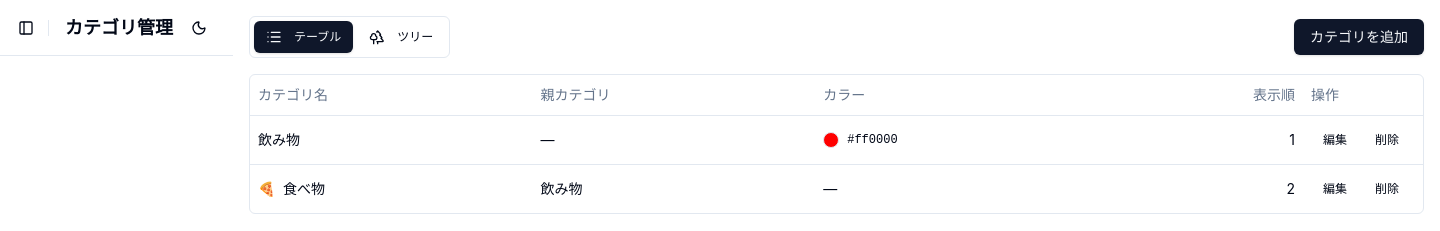
it: CategoriesPage › ツリー表示に切り替える
The image size is (1440, 231).
What coordinates should you click on to do the following:
click the button with aria-label "ツリー表示"
I would click on:
 (401, 37)
Its box is [357,21,445,53].
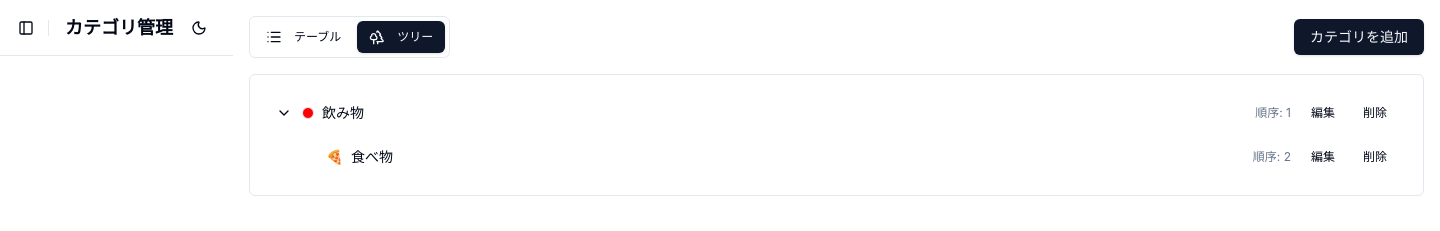
expect the text "順序: 1" is shown: met, box [1255,105,1291,121]
